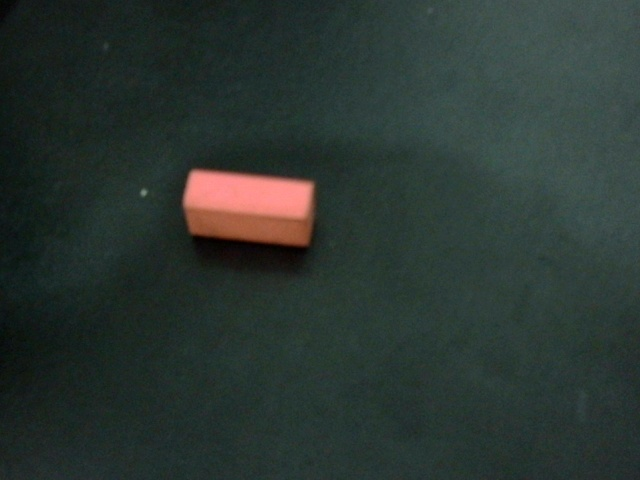eraser: (152, 152, 334, 252)
